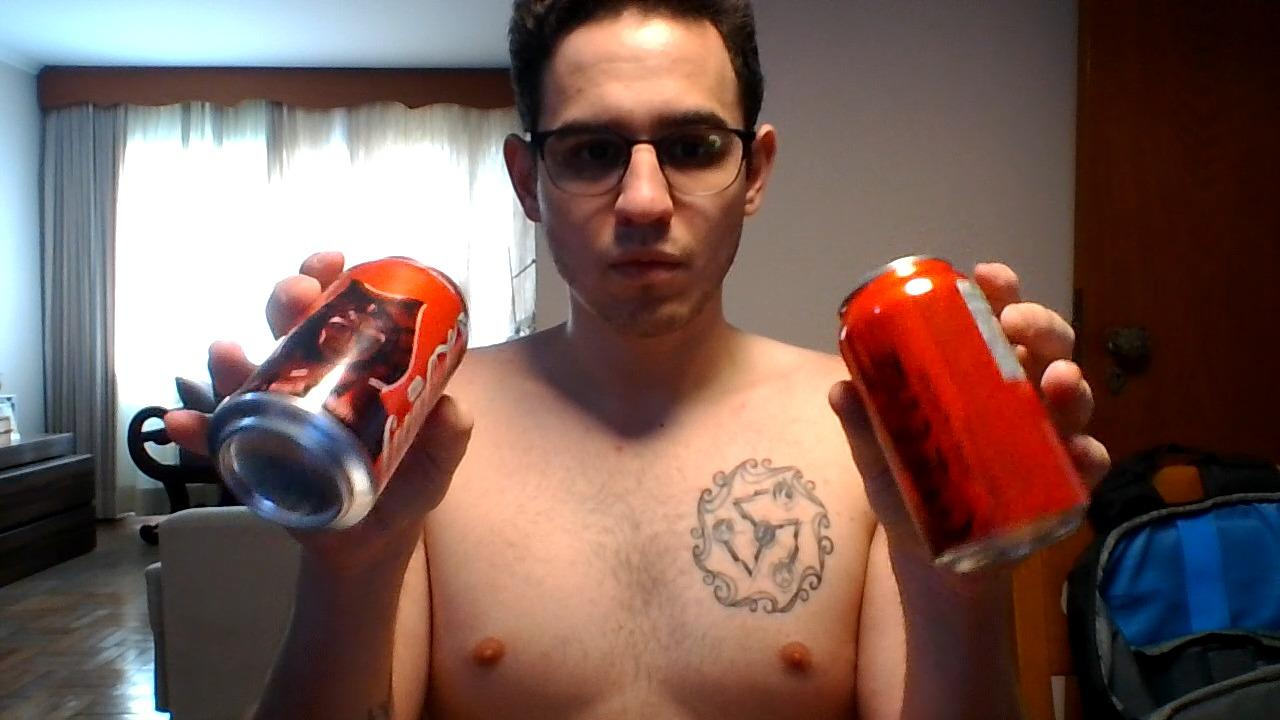coke: (200, 258, 472, 530), (842, 261, 1076, 567)
